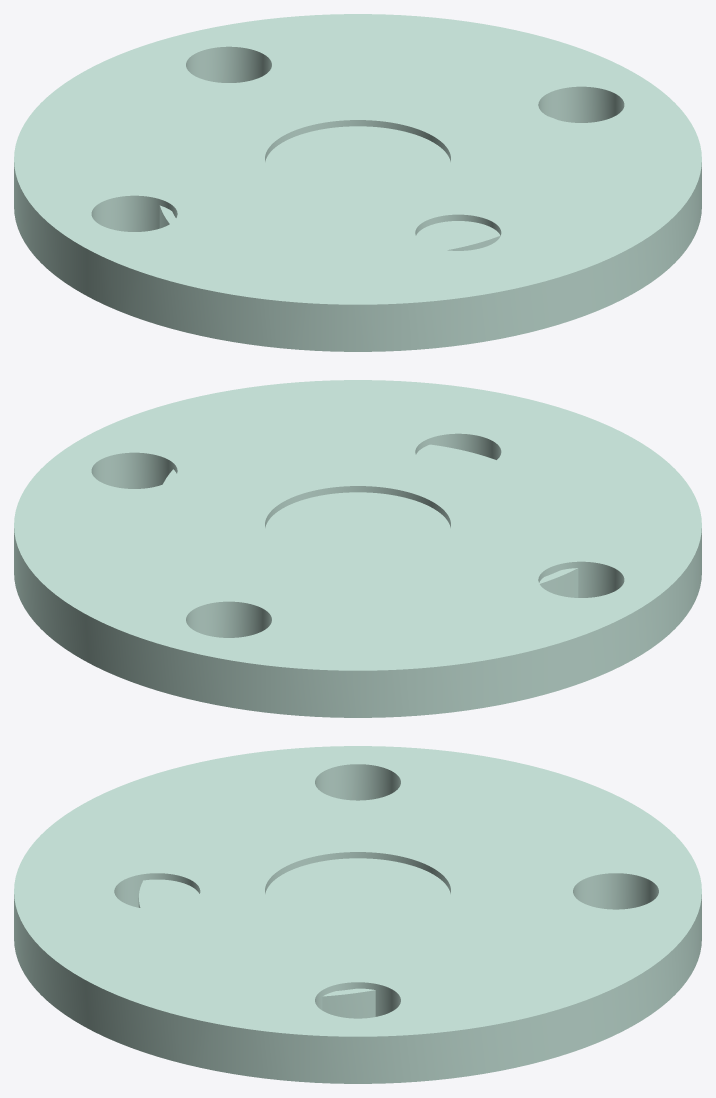
The picture shows the model from 3 angles, top to bottom: view 1: azimuth 30°, elevation 25°; view 2: azimuth 150°, elevation 25°; view 3: azimuth 270°, elevation 25°; orthographic projection.
Parts seen in each view (by area): view 1: Renderer Node; view 2: Renderer Node; view 3: Renderer Node.
Part boxes in pixels (x1=…): Renderer Node: x1=14, y1=14, x2=701, y2=351; Renderer Node: x1=14, y1=380, x2=701, y2=717; Renderer Node: x1=14, y1=746, x2=701, y2=1083.
Bounding box in the file's own units: 1.55 × 0.1172 × 1.55.
